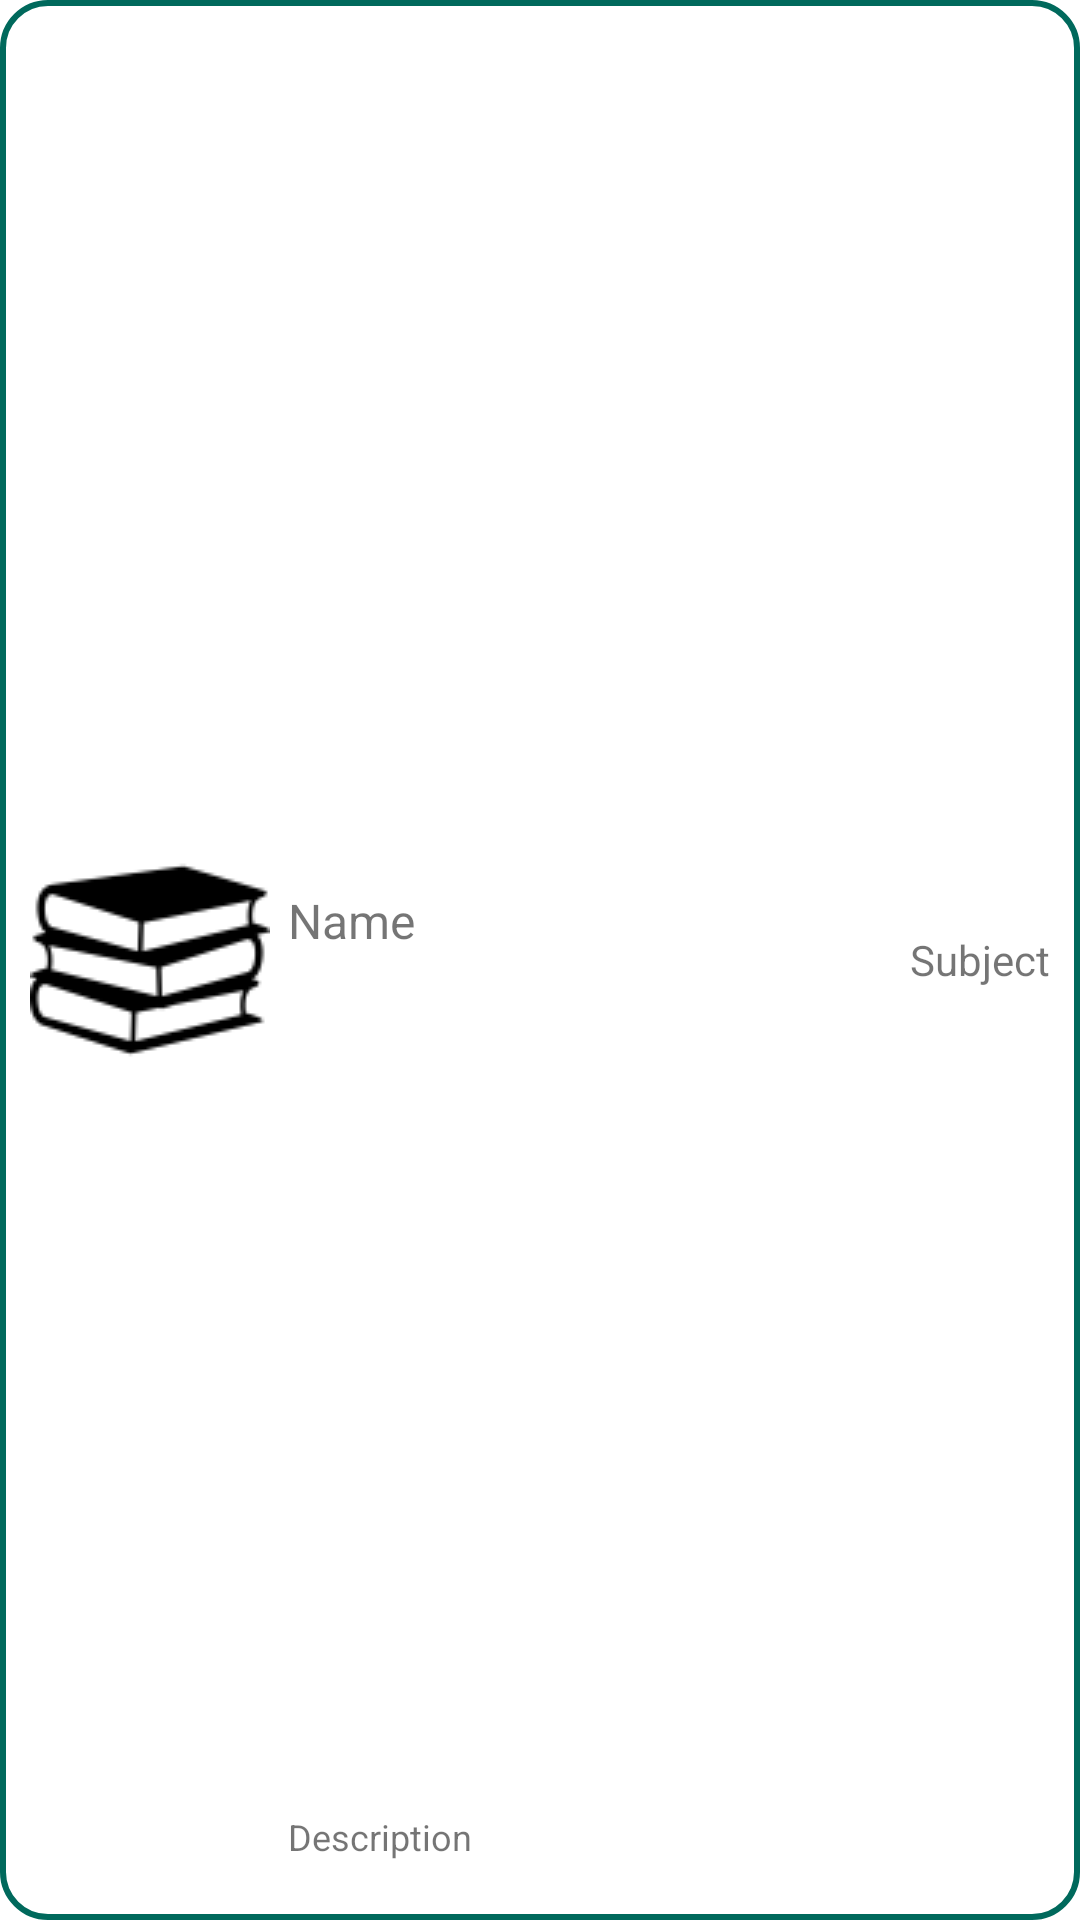

Icons on this 1080*1920 Android screen, each with the point to tap as point (x, y):
subjects: point (150, 960)
